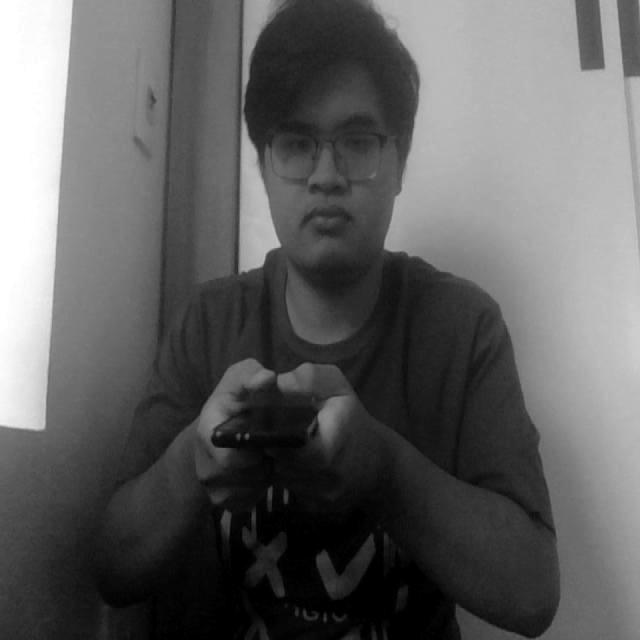phone: (198, 371, 348, 477)
